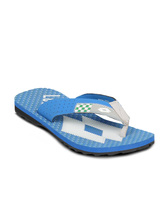shoes: (10, 81, 158, 154)
